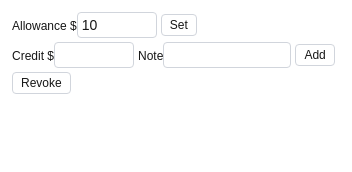
Test case: AccountActions › refuses Add credit with an empty note before showing Confirm, without sending a request
The image size is (352, 172).
Type "10" into the field labelled "Credit $".
click(94, 55); type("10")  # box [54,42,134,68]
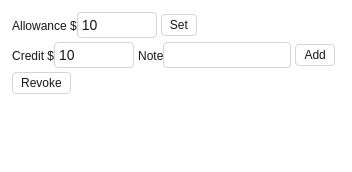
Click the button "Add".
click(315, 55)  # box [295,44,335,66]
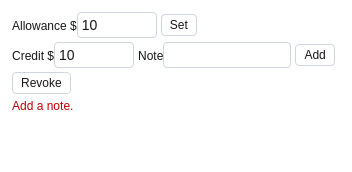
Result: the message reads "Add a note." at [12,99,73,113]
